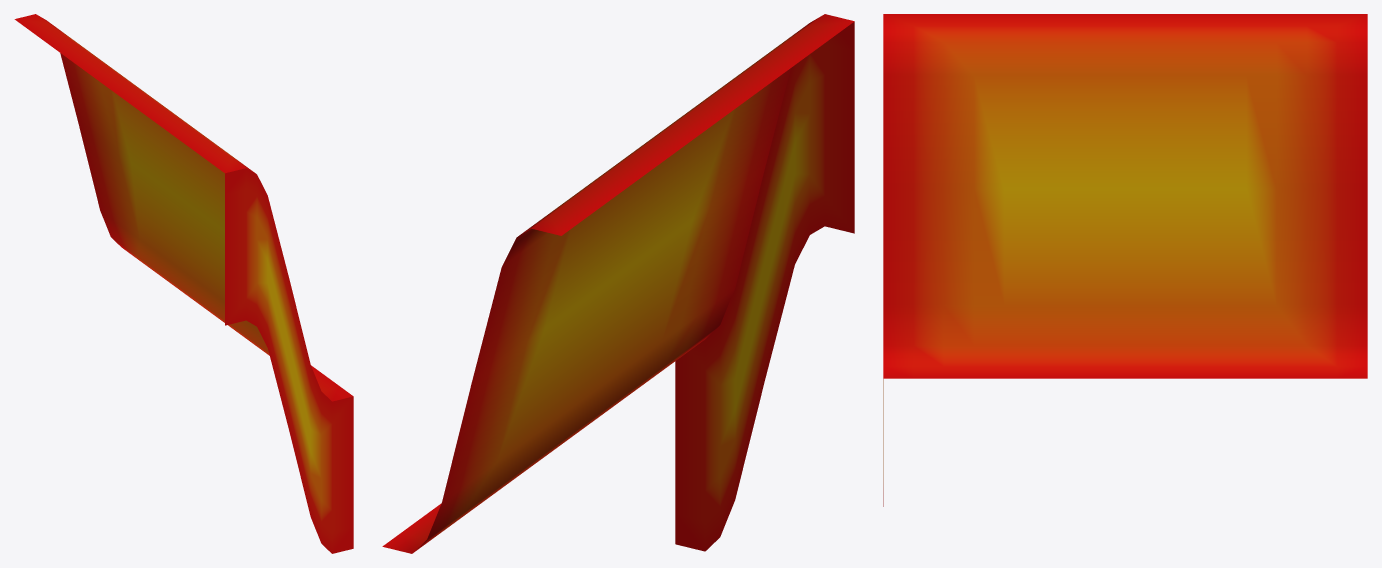
The model's file is Canal_Left.fbx.
3 renders of one model, left to right at view 1: azimuth 30°, elevation 25°; view 2: azimuth 150°, elevation 25°; view 3: azimuth 270°, elevation 25°, orthographic. The views are drawn at different scales.
Visible parts, largest first — view 1: Canal Left; view 2: Canal Left; view 3: Canal Left.
Boxes of the visible parts, x1,y1,x2,y2 form: Canal Left: (14,14,353,553); Canal Left: (382,14,854,553); Canal Left: (883,14,1367,506).
Size of the model in its own units: 106 by 320 by 300.
